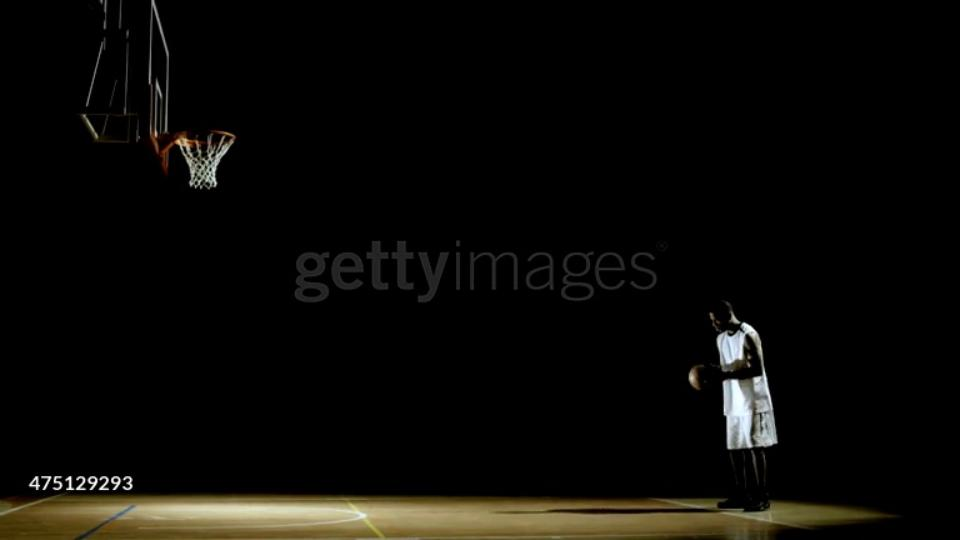hoop: (169, 130, 239, 150)
